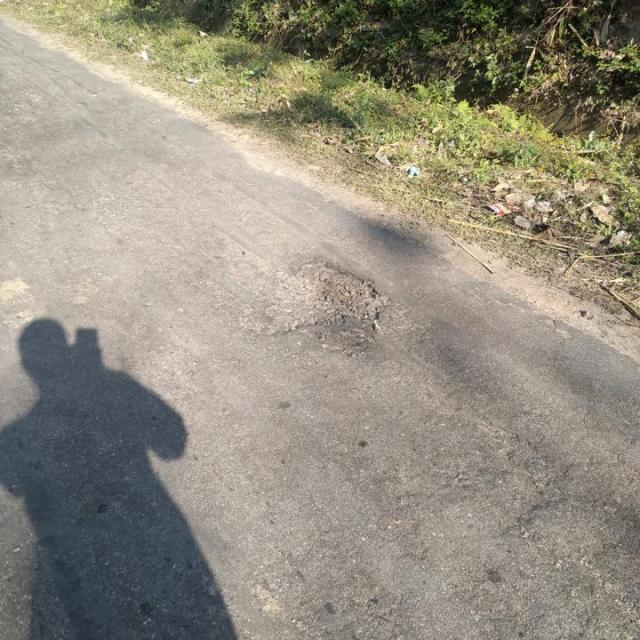Pothole: (269, 257, 393, 341)
